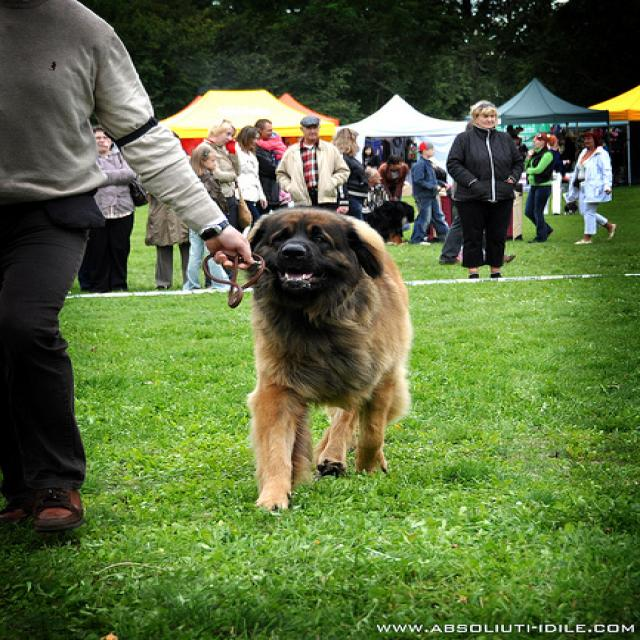dog-leonberger: (229, 201, 423, 517)
